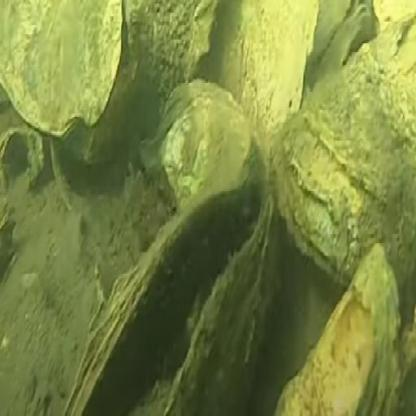3: (62, 160, 275, 416)
Oyster-Closed: (270, 11, 416, 293), (57, 0, 219, 167), (200, 0, 320, 203), (271, 247, 403, 416), (141, 85, 255, 212)
